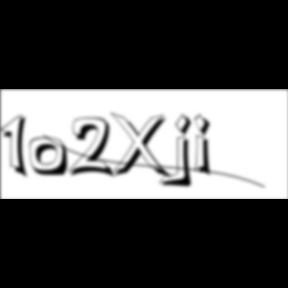1: (0, 114, 34, 182)
2: (69, 117, 119, 181)
X: (110, 112, 174, 182)
i: (195, 112, 219, 180)
j: (172, 113, 200, 191)
o: (29, 137, 71, 179)
